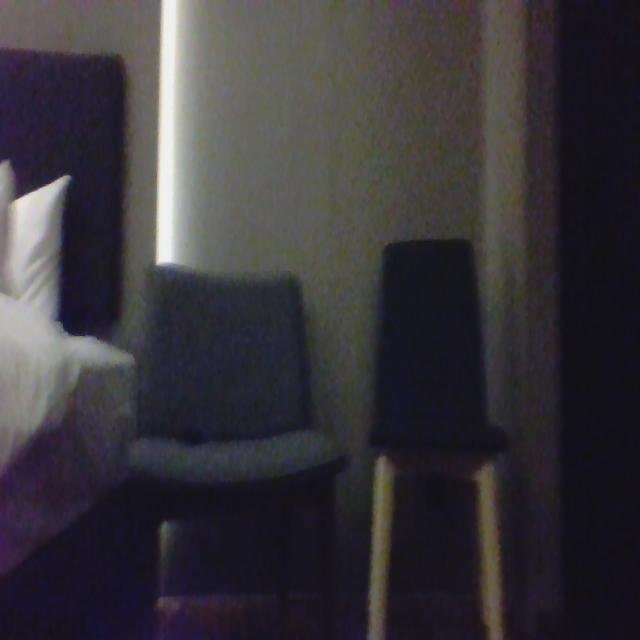empty: (134, 271, 320, 465), (364, 237, 500, 452)
